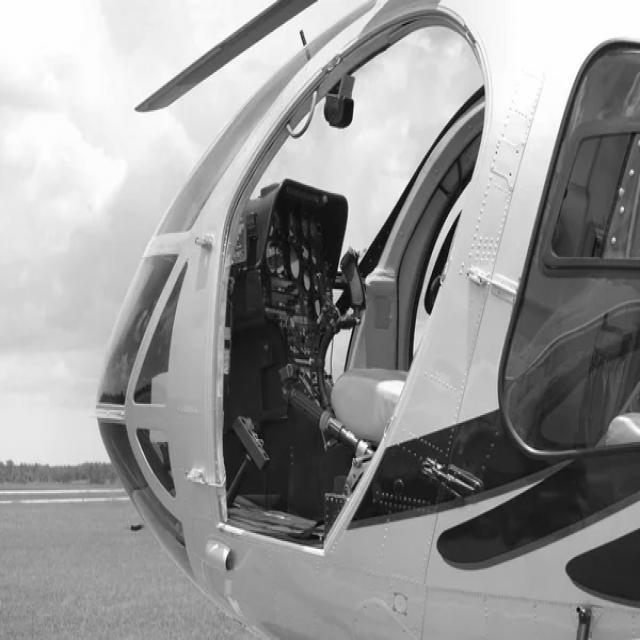Helicopter: (95, 0, 640, 639)
